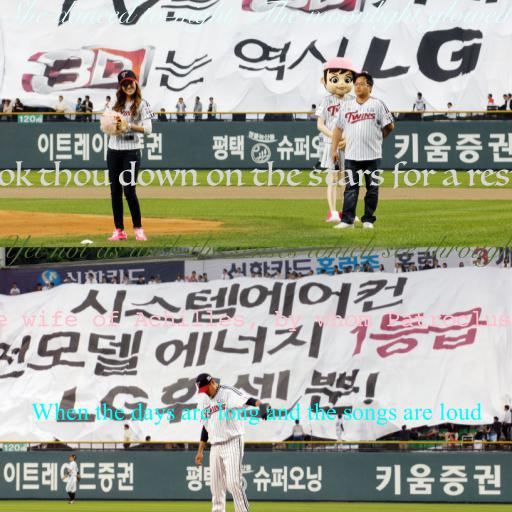Courier: (0, 310, 512, 331)
Luminari: (0, 160, 512, 189)
Snell Roundhand: (0, 234, 512, 268), (4, 0, 510, 33)
Times New Roman: (30, 403, 482, 425)
